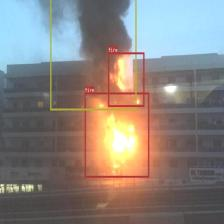fire: (84, 92, 149, 178), (108, 52, 144, 106)
smoke: (50, 0, 136, 110)
